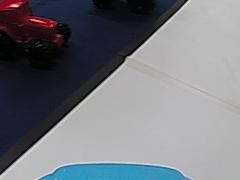Tracktor: (2, 0, 73, 65)
